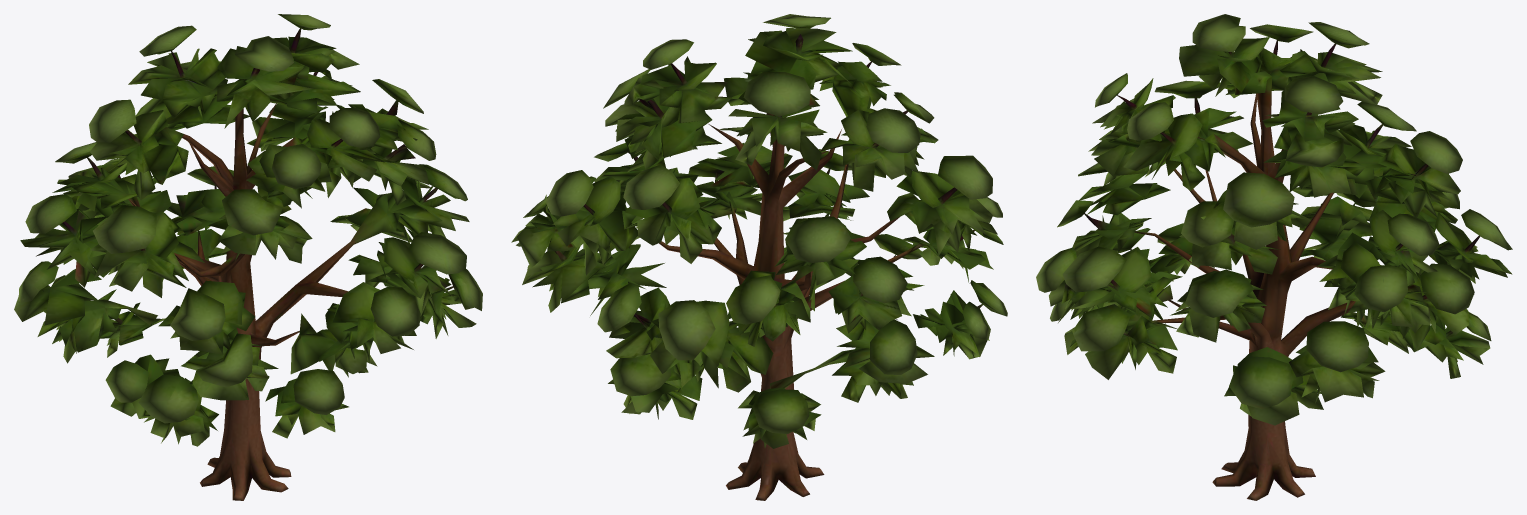
The model's file is tree.glb.
3 renders of one model, left to right at view 1: azimuth 30°, elevation 25°; view 2: azimuth 150°, elevation 25°; view 3: azimuth 270°, elevation 25°, orthographic.
Visible parts, largest first — view 1: tripo_node_668ddaef-c19f-4d7b-a82c-b1ae365ca955; view 2: tripo_node_668ddaef-c19f-4d7b-a82c-b1ae365ca955; view 3: tripo_node_668ddaef-c19f-4d7b-a82c-b1ae365ca955.
Boxes of the visible parts, x1,y1,x2,y2 form: tripo_node_668ddaef-c19f-4d7b-a82c-b1ae365ca955: [14, 14, 482, 500]; tripo_node_668ddaef-c19f-4d7b-a82c-b1ae365ca955: [511, 14, 1007, 500]; tripo_node_668ddaef-c19f-4d7b-a82c-b1ae365ca955: [1036, 14, 1512, 500].
Bounding box in the file's own units: 0.9395 × 0.998 × 0.9512.
1 material, 1 textured.
